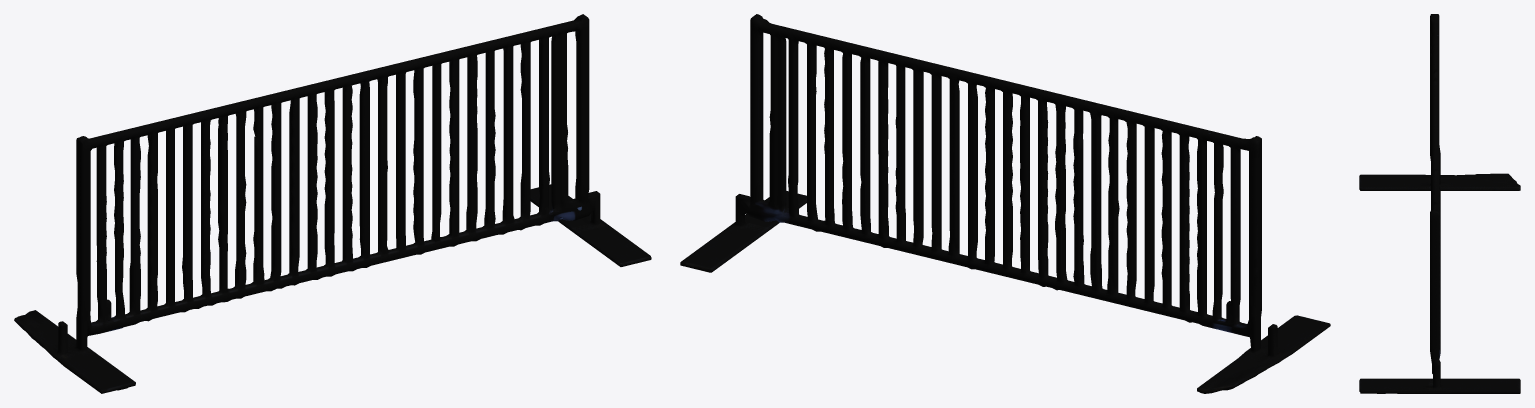
Rendered from Black_Fence_Panel_96inlong_0419025027_texture.glb.
The picture shows the model from 3 angles, left to right: view 1: azimuth 30°, elevation 25°; view 2: azimuth 150°, elevation 25°; view 3: azimuth 270°, elevation 25°; orthographic projection. The views are drawn at different scales.
Parts seen in each view (by area): view 1: Mesh_0; view 2: Mesh_0; view 3: Mesh_0.
Boxes of the visible parts, left/top/right/bottom form: Mesh_0: left=14, top=14, right=651, bottom=393; Mesh_0: left=680, top=14, right=1330, bottom=393; Mesh_0: left=1359, top=14, right=1520, bottom=393.
Bounding box in the file's own units: 2.7 × 1.02 × 0.8494.
Materials: 1 (1 with a texture image).
